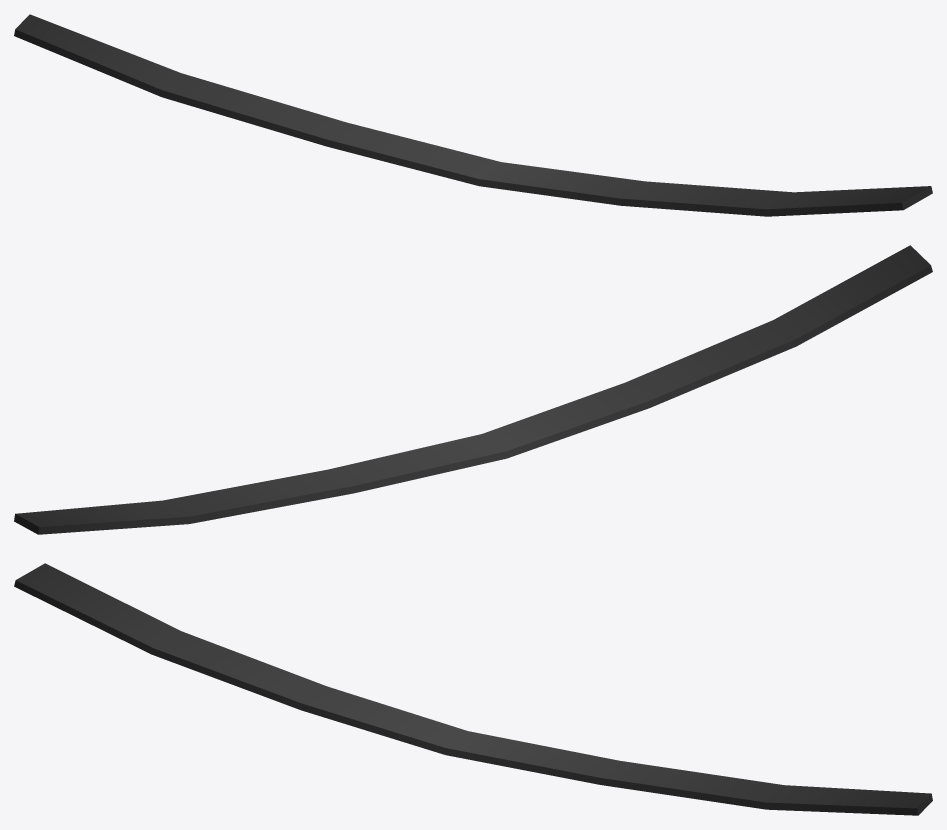
Rendered from LanternLine_01Collider.FBX.
3 views of the same model, one above another, from view 1: azimuth 90°, elevation 25°; view 2: azimuth 150°, elevation 25°; view 3: azimuth 270°, elevation 25° (orthographic). The views are drawn at different scales.
Bounding box in the file's own units: 412 × 69.86 × 736.
Materials: 1 (1 with a texture image).
